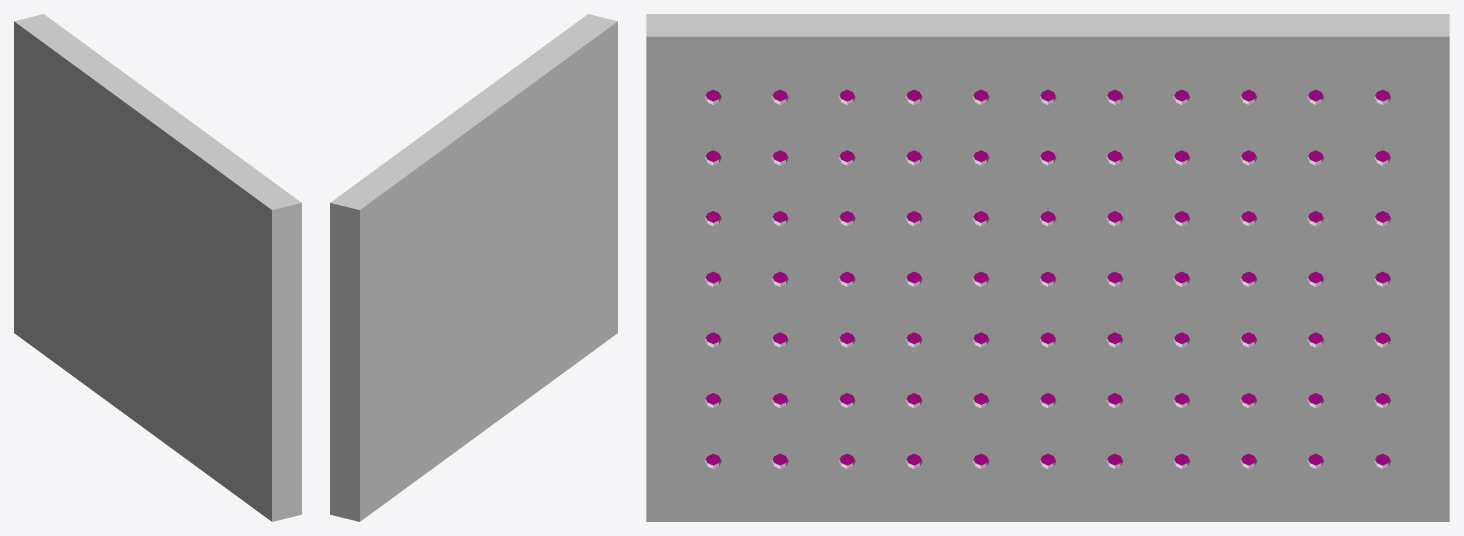
File: toolboard.fbx
3 views of the same model, side by side, from view 1: azimuth 30°, elevation 25°; view 2: azimuth 150°, elevation 25°; view 3: azimuth 270°, elevation 25° (orthographic). The views are drawn at different scales.
Parts seen in each view (by area): view 1: Cube; view 2: Cube; view 3: Cube.
Boxes of the visible parts, <box> form: Cube: <box>14,14,301,521</box>; Cube: <box>330,14,617,521</box>; Cube: <box>646,14,1449,521</box>.
Size of the model in its own units: 160 by 1600 by 2400.
